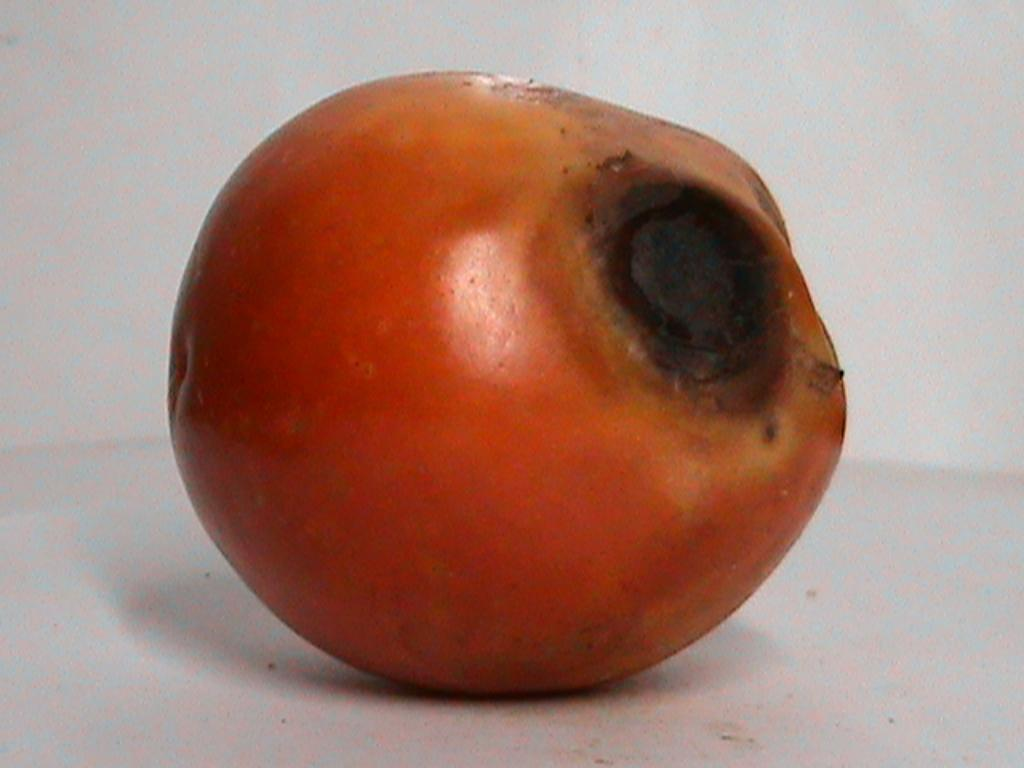rot_mold_decay: (605, 182, 774, 384)
tomato: (170, 74, 843, 691)
